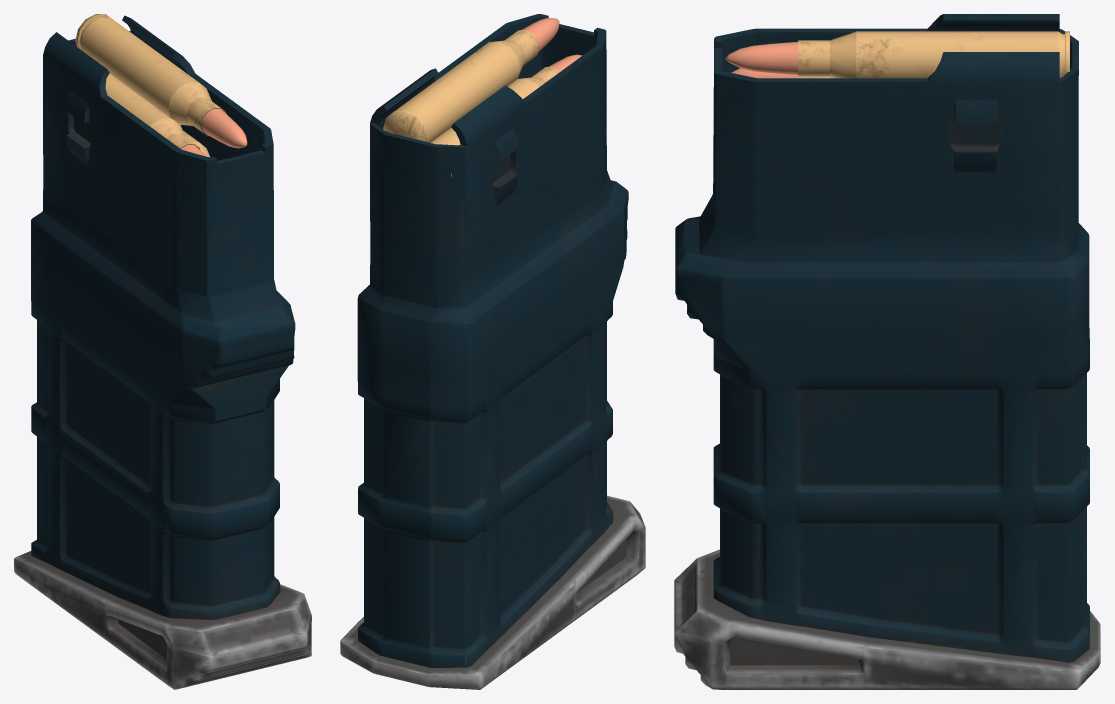
File: Mag_762_20rnds_A.glb
The picture shows the model from 3 angles, left to right: view 1: azimuth 30°, elevation 25°; view 2: azimuth 150°, elevation 25°; view 3: azimuth 270°, elevation 25°; orthographic projection. The views are drawn at different scales.
Parts seen in each view (by area): view 1: Mag_762_20rnds_A, Cartridge1.013, Cartridge2.013; view 2: Mag_762_20rnds_A, Cartridge1.013, Cartridge2.013; view 3: Mag_762_20rnds_A, Cartridge1.013.
Boxes of the visible parts, x1=… form: Mag_762_20rnds_A: x1=14, y1=15, x2=311, y2=689; Cartridge1.013: x1=75, y1=14, x2=247, y2=148; Cartridge2.013: x1=105, y1=73, x2=206, y2=156; Mag_762_20rnds_A: x1=340, y1=14, x2=645, y2=689; Cartridge1.013: x1=383, y1=18, x2=559, y2=142; Cartridge2.013: x1=430, y1=54, x2=582, y2=176; Mag_762_20rnds_A: x1=674, y1=14, x2=1100, y2=689; Cartridge1.013: x1=725, y1=31, x2=1069, y2=78.
Size of the model in its own units: 0.0405 by 0.1521 by 0.0942.
2 materials, 2 textured.
